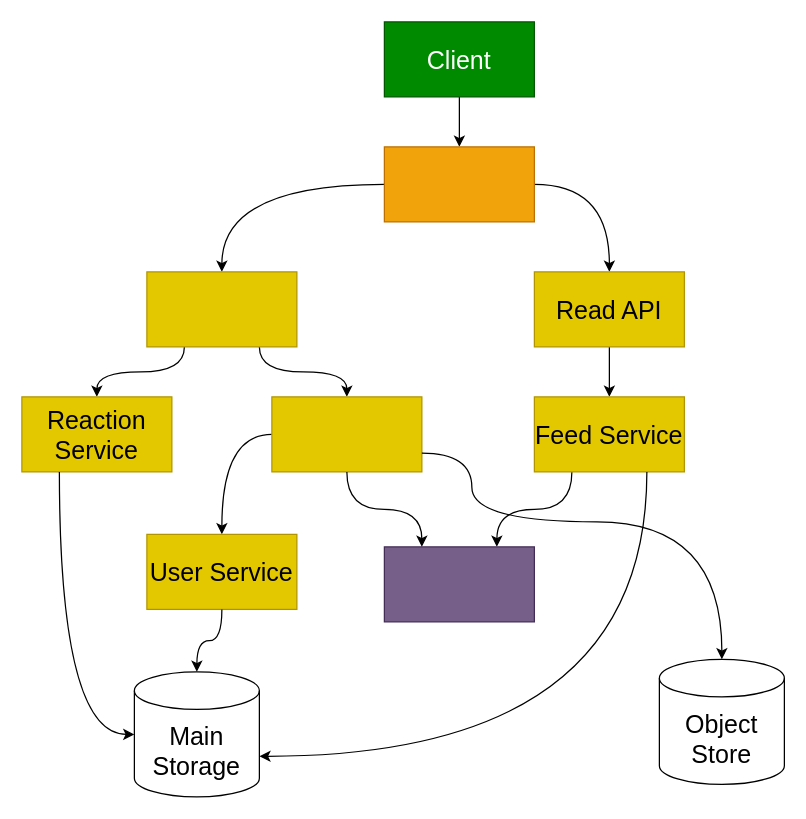
This 806x819 diagram has some shape labels left out. The centre of each missing label's shape, as x and y in pixels:
"Feed Cache" belongs at point 458,584.
"Post Service" belongs at point 346,434.
"Web Server" belongs at point 458,184.
"Write API" belongs at point 221,309.
